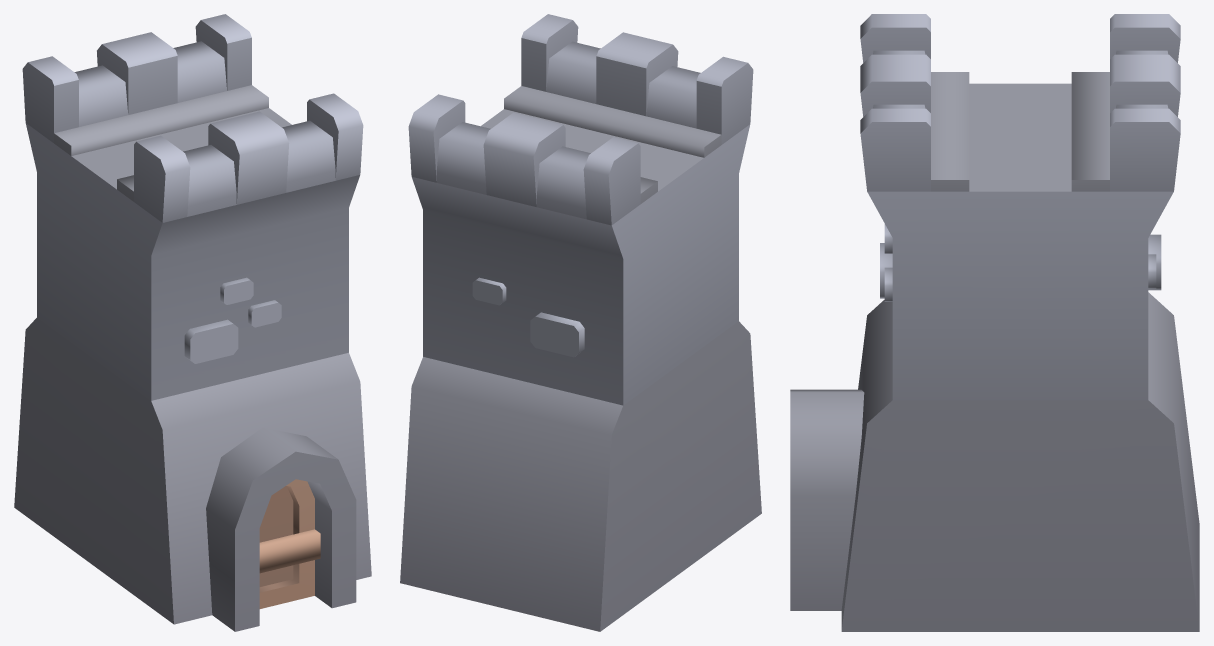
The model's file is castle-door.glb.
3 renders of one model, left to right at view 1: azimuth 30°, elevation 25°; view 2: azimuth 150°, elevation 25°; view 3: azimuth 270°, elevation 25°, orthographic. The views are drawn at different scales.
Parts seen in each view (by area): view 1: castle-door; view 2: castle-door; view 3: castle-door.
Part boxes in pixels (<box>): castle-door: <box>14,14,371,631</box>; castle-door: <box>400,14,761,631</box>; castle-door: <box>790,14,1199,631</box>.
Bounding box in the file's own units: 2 × 4.4 × 3.2.
